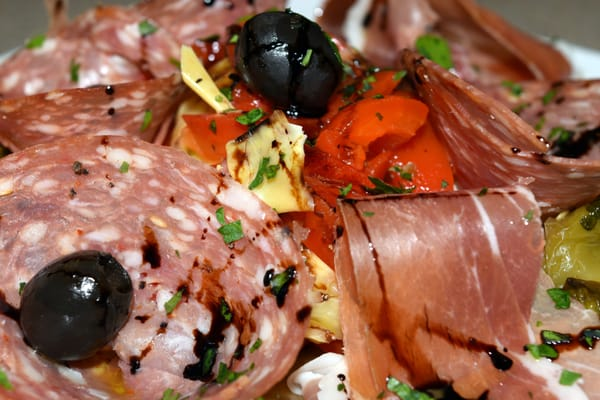soup: (334, 186, 579, 395)
